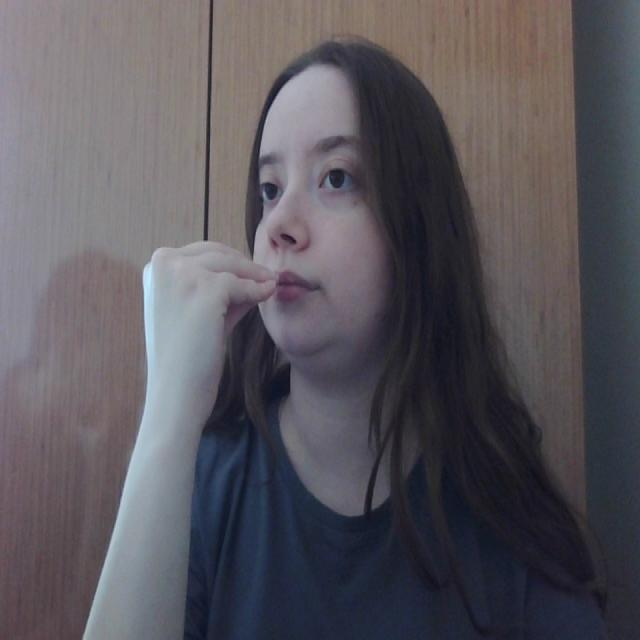Yemek: (130, 236, 304, 321)
